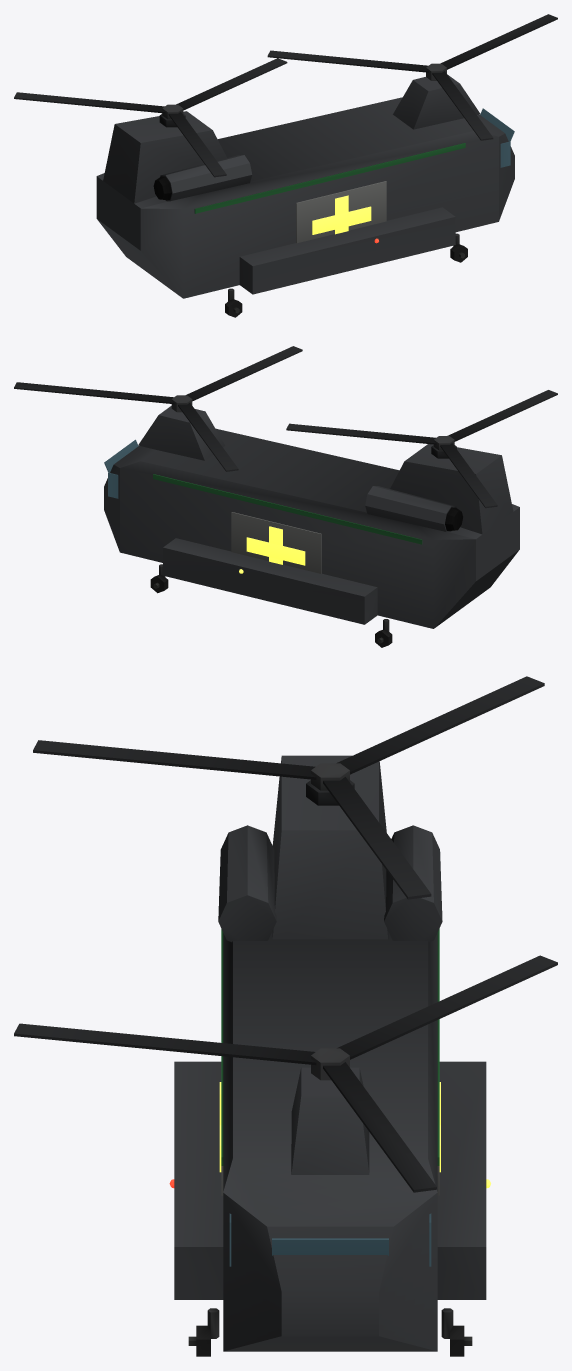
Rendered from u_medevac_lod1.glb.
3 renders of one model, top to bottom at view 1: azimuth 30°, elevation 25°; view 2: azimuth 150°, elevation 25°; view 3: azimuth 270°, elevation 25°, orthographic. The views are drawn at different scales.
Visible parts, largest first — view 1: Medevac_LOD1_Walls, Medevac_LOD1_Details, Medevac_LOD1_rotor; view 2: Medevac_LOD1_Walls, Medevac_LOD1_Details, Medevac_LOD1_rotor; view 3: Medevac_LOD1_Walls, Medevac_LOD1_Details, Medevac_LOD1_rotor.
Part boxes in pixels (x1,y1,x2,y2): Medevac_LOD1_Walls: (96,74,514,298); Medevac_LOD1_Details: (14,58,514,317); Medevac_LOD1_rotor: (267,14,557,140); Medevac_LOD1_Walls: (104,406,519,628); Medevac_LOD1_Details: (104,390,557,647); Medevac_LOD1_rotor: (14,346,302,471); Medevac_LOD1_Walls: (174,755,486,1351); Medevac_LOD1_Details: (33,676,544,1356); Medevac_LOD1_rotor: (14,955,557,1192).
Bounding box in the file's own units: 2.28 × 0.82 × 1.12.
